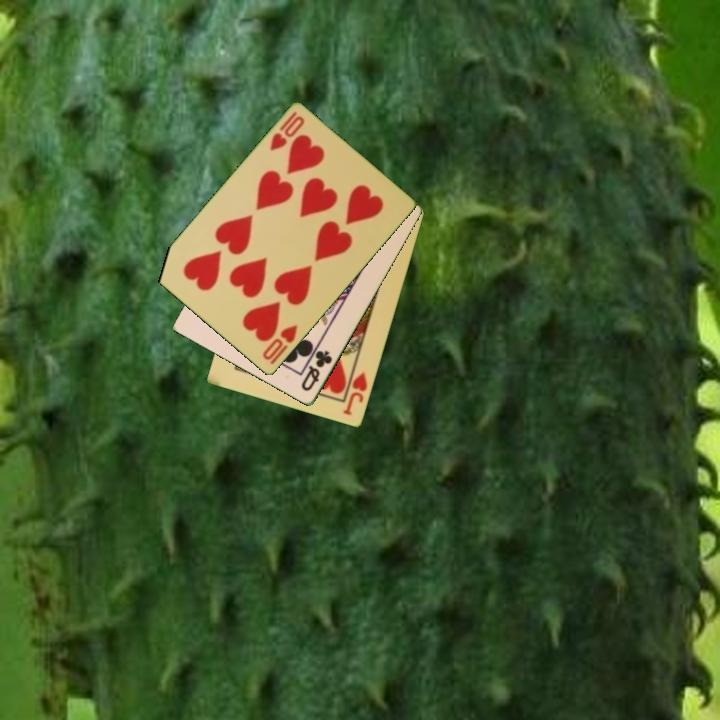10h: (259, 321, 300, 368), (266, 108, 307, 154)
Jh: (340, 368, 370, 419)
Qc: (298, 347, 336, 395)
